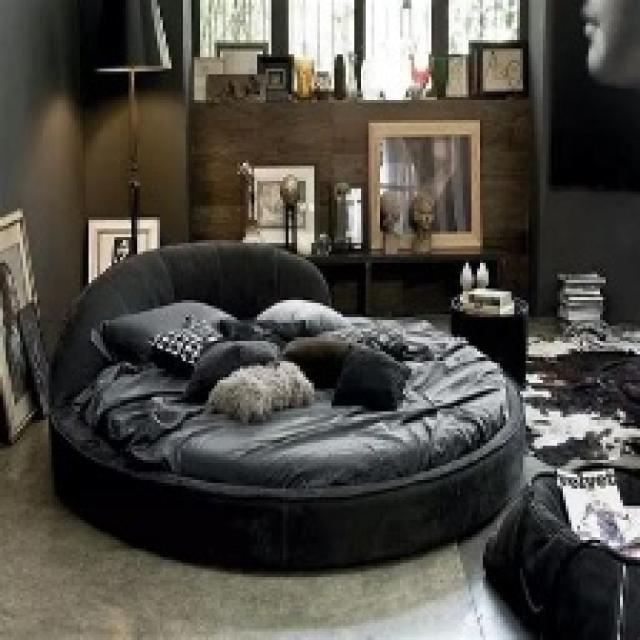Bed: (46, 237, 526, 572)
